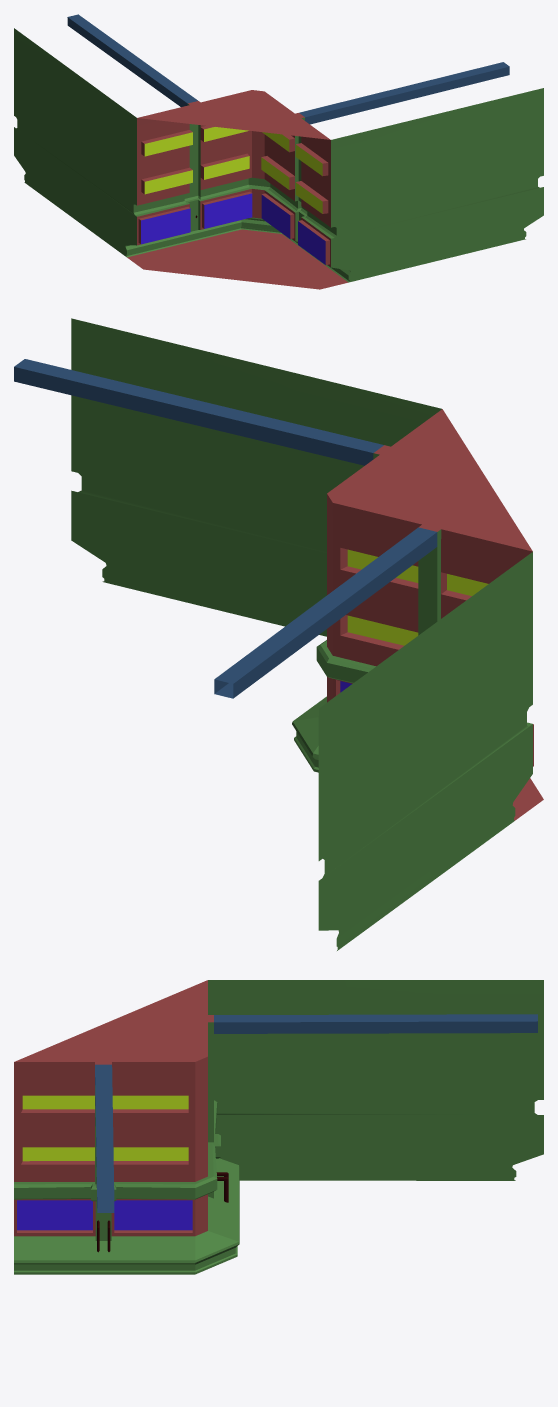
Rendered from structure_upper_corner.FBX.
The picture shows the model from 3 angles, top to bottom: view 1: azimuth 30°, elevation 25°; view 2: azimuth 150°, elevation 25°; view 3: azimuth 270°, elevation 25°; orthographic projection. The views are drawn at different scales.
Parts seen in each view (by area): view 1: Object053; view 2: Object053; view 3: Object053.
Part boxes in pixels (x1=…): Object053: x1=14, y1=14, x2=543, y2=289; Object053: x1=14, y1=318, x2=543, y2=950; Object053: x1=14, y1=980, x2=543, y2=1274.
Size of the model in its own units: 702 by 293 by 701.
